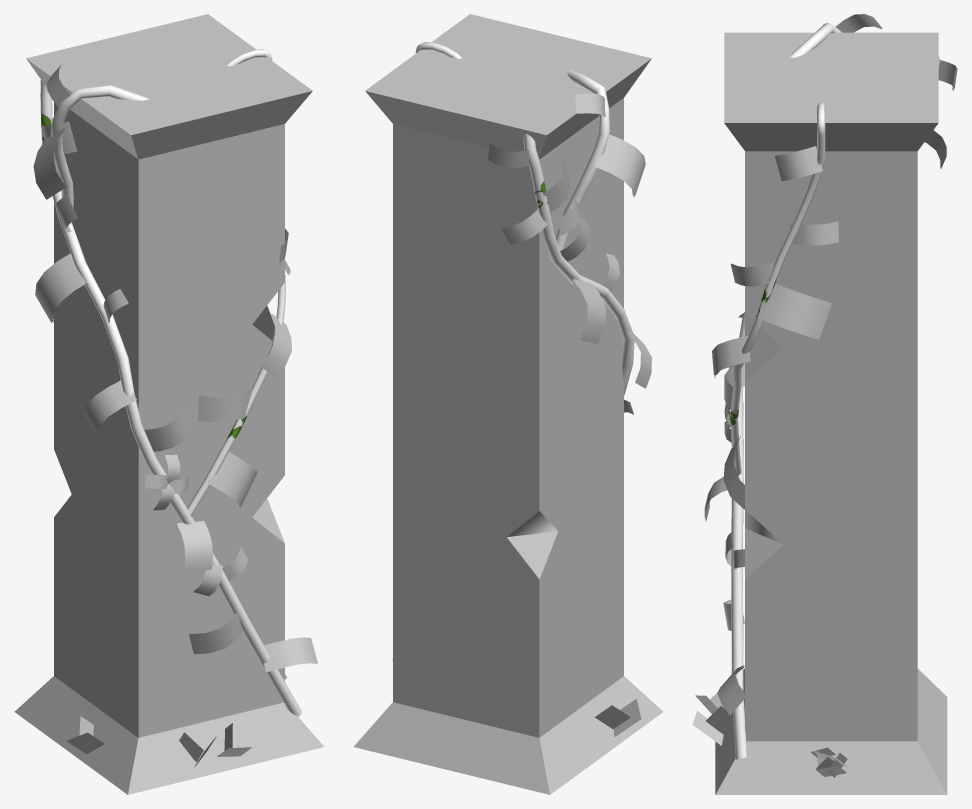
Rendered from Columna.fbx.
3 views of the same model, side by side, from view 1: azimuth 30°, elevation 25°; view 2: azimuth 150°, elevation 25°; view 3: azimuth 270°, elevation 25° (orthographic). The views are drawn at different scales.
Parts seen in each view (by area): view 1: Columna, Hojas de Liana de Columna, Liana de Columna, Pasto; view 2: Columna, Hojas de Liana de Columna, Liana de Columna, Pasto; view 3: Columna, Hojas de Liana de Columna, Liana de Columna, Pasto (×2).
Boxes of the visible parts, x1,y1,x2,y2 form: Columna: [14, 14, 324, 794]; Hojas de Liana de Columna: [33, 65, 317, 672]; Liana de Columna: [40, 49, 301, 716]; Pasto: [67, 716, 104, 753]; Columna: [353, 14, 663, 794]; Hojas de Liana de Columna: [488, 93, 651, 414]; Liana de Columna: [415, 42, 634, 395]; Pasto: [595, 699, 641, 736]; Columna: [715, 32, 947, 794]; Hojas de Liana de Columna: [704, 14, 957, 715]; Liana de Columna: [730, 22, 940, 759]; Pasto (×2): [692, 706, 847, 777].
Bounding box in the file's own units: 11.1 × 10.24 × 29.21.
